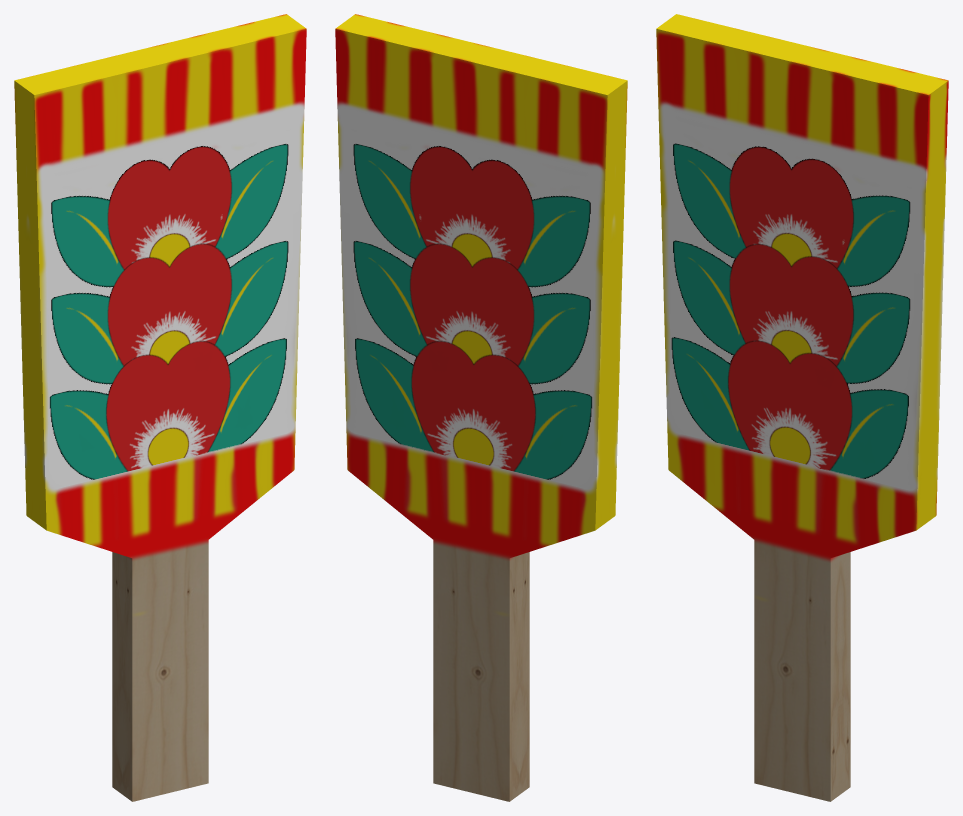
File: Hagoita.fbx
3 renders of one model, left to right at view 1: azimuth 30°, elevation 25°; view 2: azimuth 150°, elevation 25°; view 3: azimuth 330°, elevation 25°, orthographic.
Parts seen in each view (by area): view 1: hagoita; view 2: hagoita; view 3: hagoita.
Part boxes in pixels (box(x1,y1,x2,y2)): hagoita: box(14, 14, 306, 801); hagoita: box(335, 14, 627, 801); hagoita: box(656, 14, 948, 801).
Bounding box in the file's own units: 0.39 × 0.9999 × 0.05.
